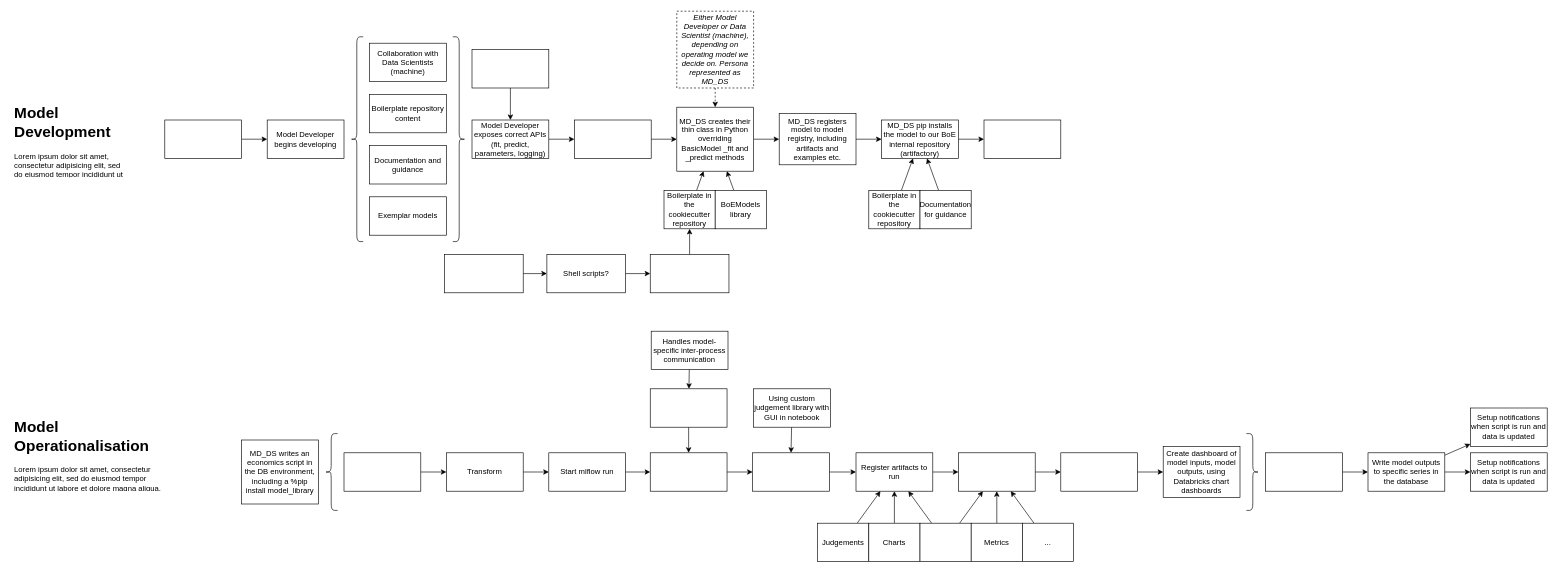
The diagram is 1558 pixels wide and 573 high, and some of its shapes have lost their labels. The shapes that lost their labels are listed below. From the top down, each one's box as (x1, y1, x2, y2) in pixels, then its label:
(471, 49, 549, 88): Octave / MATLAB - different script files? EViews - different eviews files?
(164, 119, 242, 158): Create new repository for model from boilerplate (cookiecutter?)
(574, 119, 651, 158): Model Developer finishes initial development stage of model
(983, 119, 1061, 158): To model operationalisation
(444, 254, 523, 293): VM with interpreters installed in image (MATLAB, Octave, EViews, etc)
(650, 254, 729, 293): Interlanguage communication boilerplate for different modelling langs.
(650, 388, 727, 427): Using pip installed library
(343, 452, 421, 491): Load data
(650, 452, 727, 491): Run model
(752, 452, 829, 491): Apply judgements
(958, 452, 1035, 491): Register other metadata to the run
(1060, 452, 1138, 491): Log the run
(1265, 452, 1342, 491): Orchestrate script to run on triggers as job
(919, 523, 971, 562): Commentary
